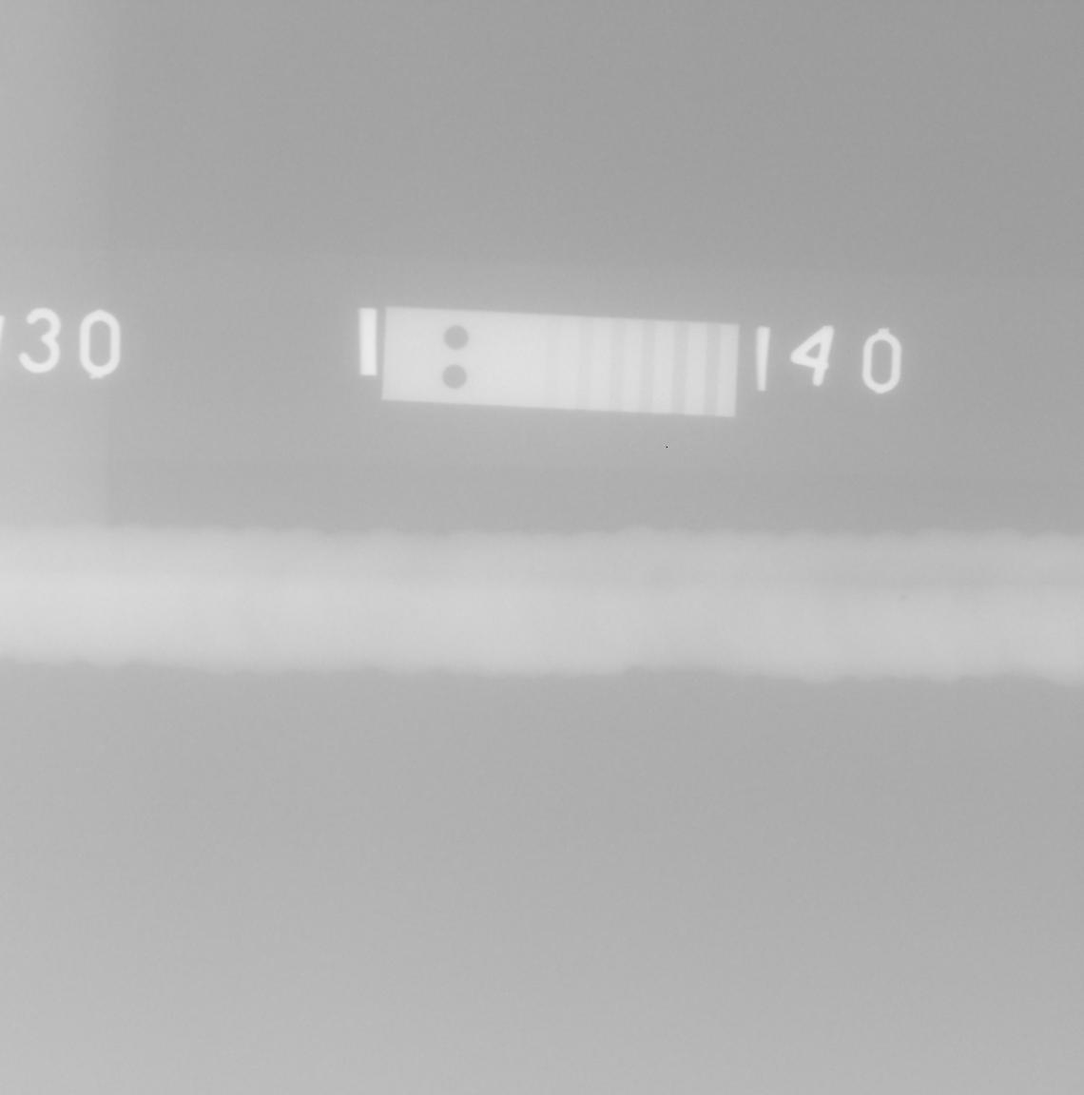Pore/Porosity: (898, 595, 908, 602)
Reference Standard 2: (382, 306, 739, 417)
